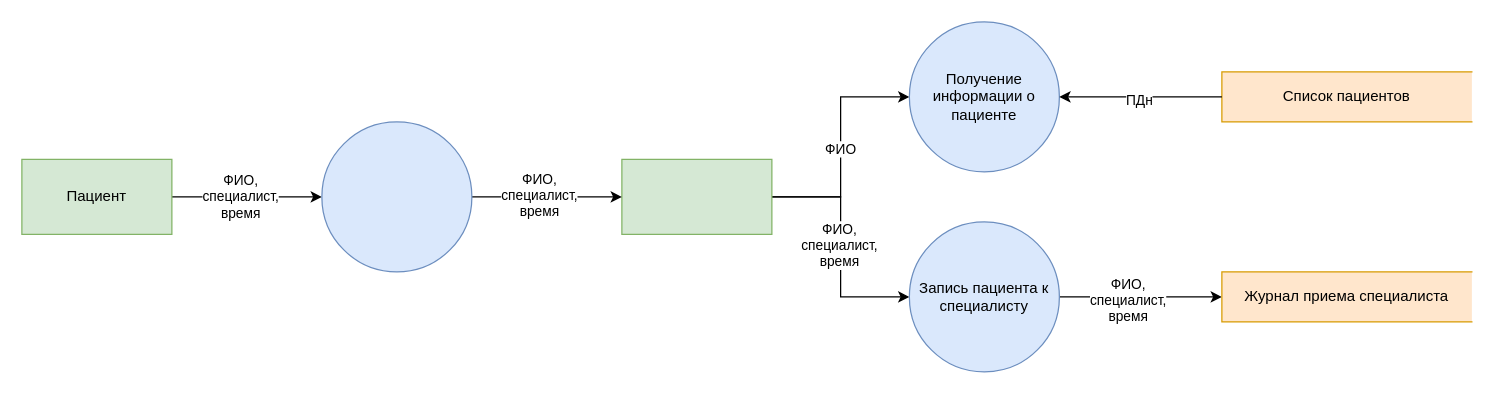
This 1494x394 diagram has some shape labels left out. The shapes that lost their labels are listed below. From the top down, each one's centre as x and y in pixels, then its label:
At [396,196]: "Запись к специалисту".
At [696,196]: "Администратор".
